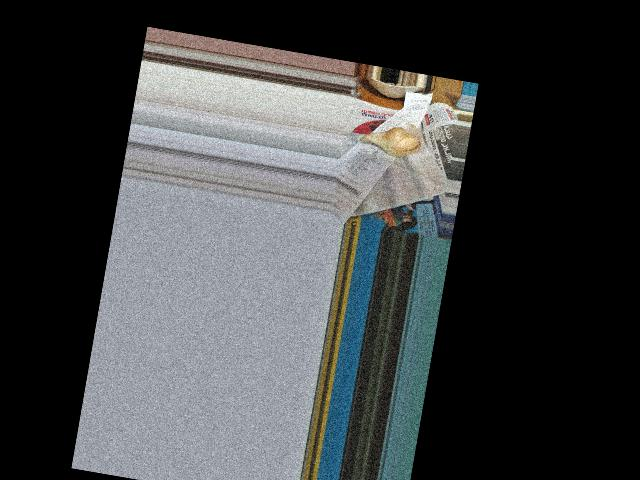onion: (366, 123, 423, 158)
